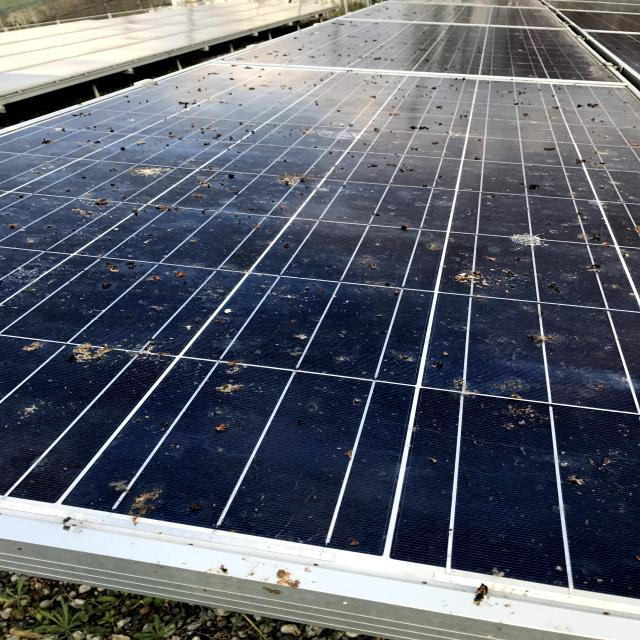bird: (23, 323, 159, 413), (85, 446, 216, 529), (483, 185, 563, 268), (205, 354, 272, 450), (81, 140, 189, 193), (81, 245, 180, 284), (276, 164, 346, 198), (531, 129, 587, 164)
